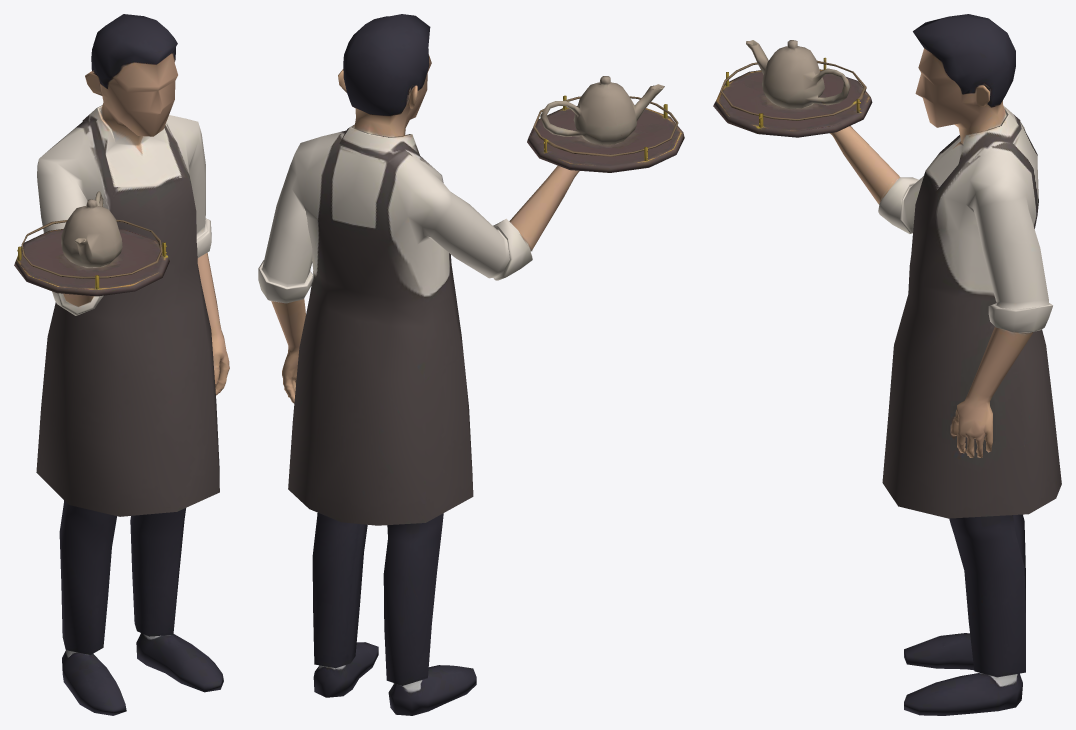
The model's file is original_glb.glb.
3 views of the same model, side by side, from view 1: azimuth 30°, elevation 25°; view 2: azimuth 150°, elevation 25°; view 3: azimuth 270°, elevation 25° (orthographic).
Visible parts, largest first — view 1: Restaurant server; view 2: Restaurant server; view 3: Restaurant server.
Part boxes in pixels (left/top/right/bottom): Restaurant server: left=14, top=14, right=229, bottom=715; Restaurant server: left=258, top=14, right=684, bottom=715; Restaurant server: left=713, top=14, right=1061, bottom=715.
Bounding box in the file's own units: 0.4707 × 0.998 × 0.4746.
1 material, 1 textured.
